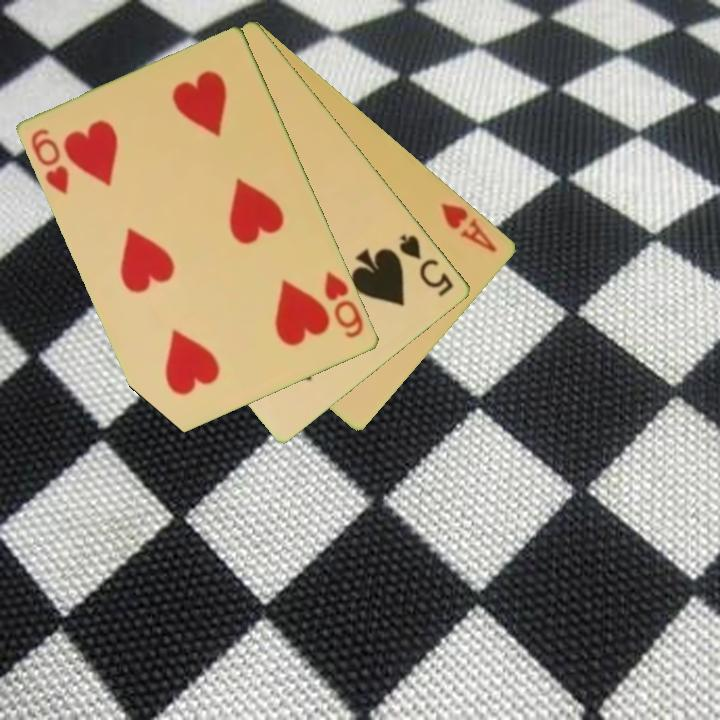5s: (396, 230, 457, 300)
6h: (321, 268, 367, 341), (28, 125, 73, 198)
Ah: (438, 199, 501, 256)
